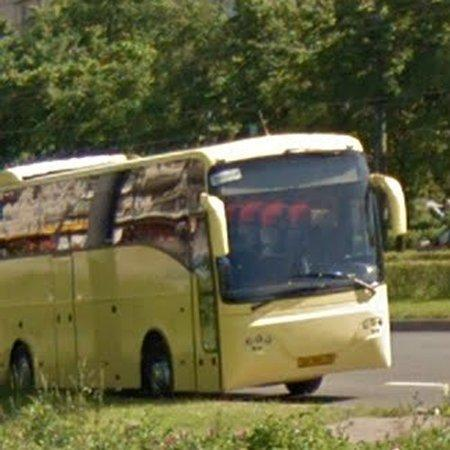buses: (0, 133, 408, 396)
